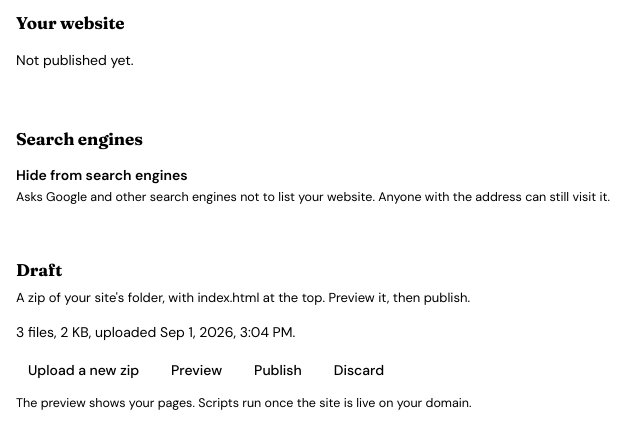
Test: WebsitePage › discards the draft
Click the button "Discard" at (359,370), box top-left (322, 354), bottom-right (396, 386)
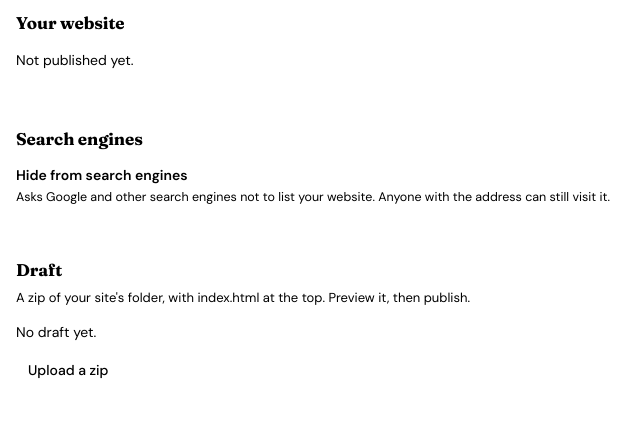
Check: the text "No draft yet." is shown, box top-left (16, 323), bottom-right (96, 341)
